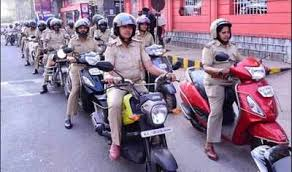helmet: (109, 12, 144, 44), (206, 17, 235, 45), (69, 18, 96, 40)
